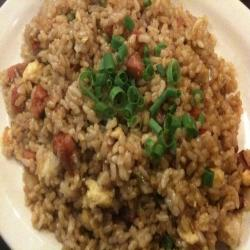rice: (15, 10, 233, 238)
